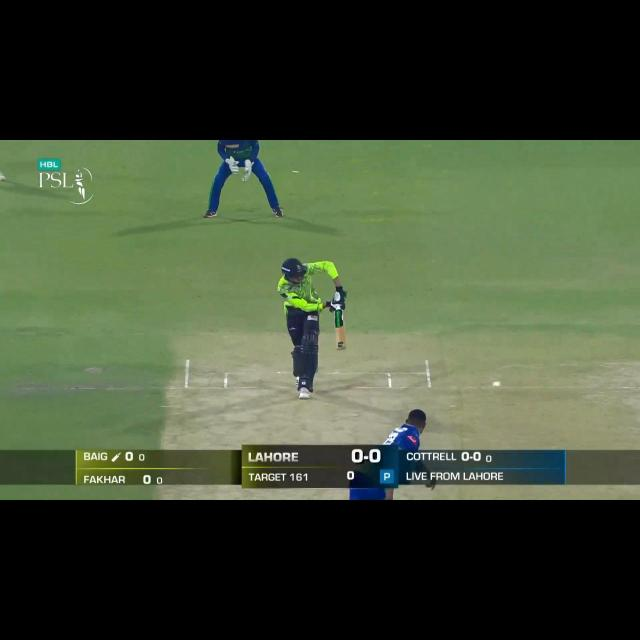bat: (334, 308, 347, 351)
toe: (333, 346, 349, 352)
